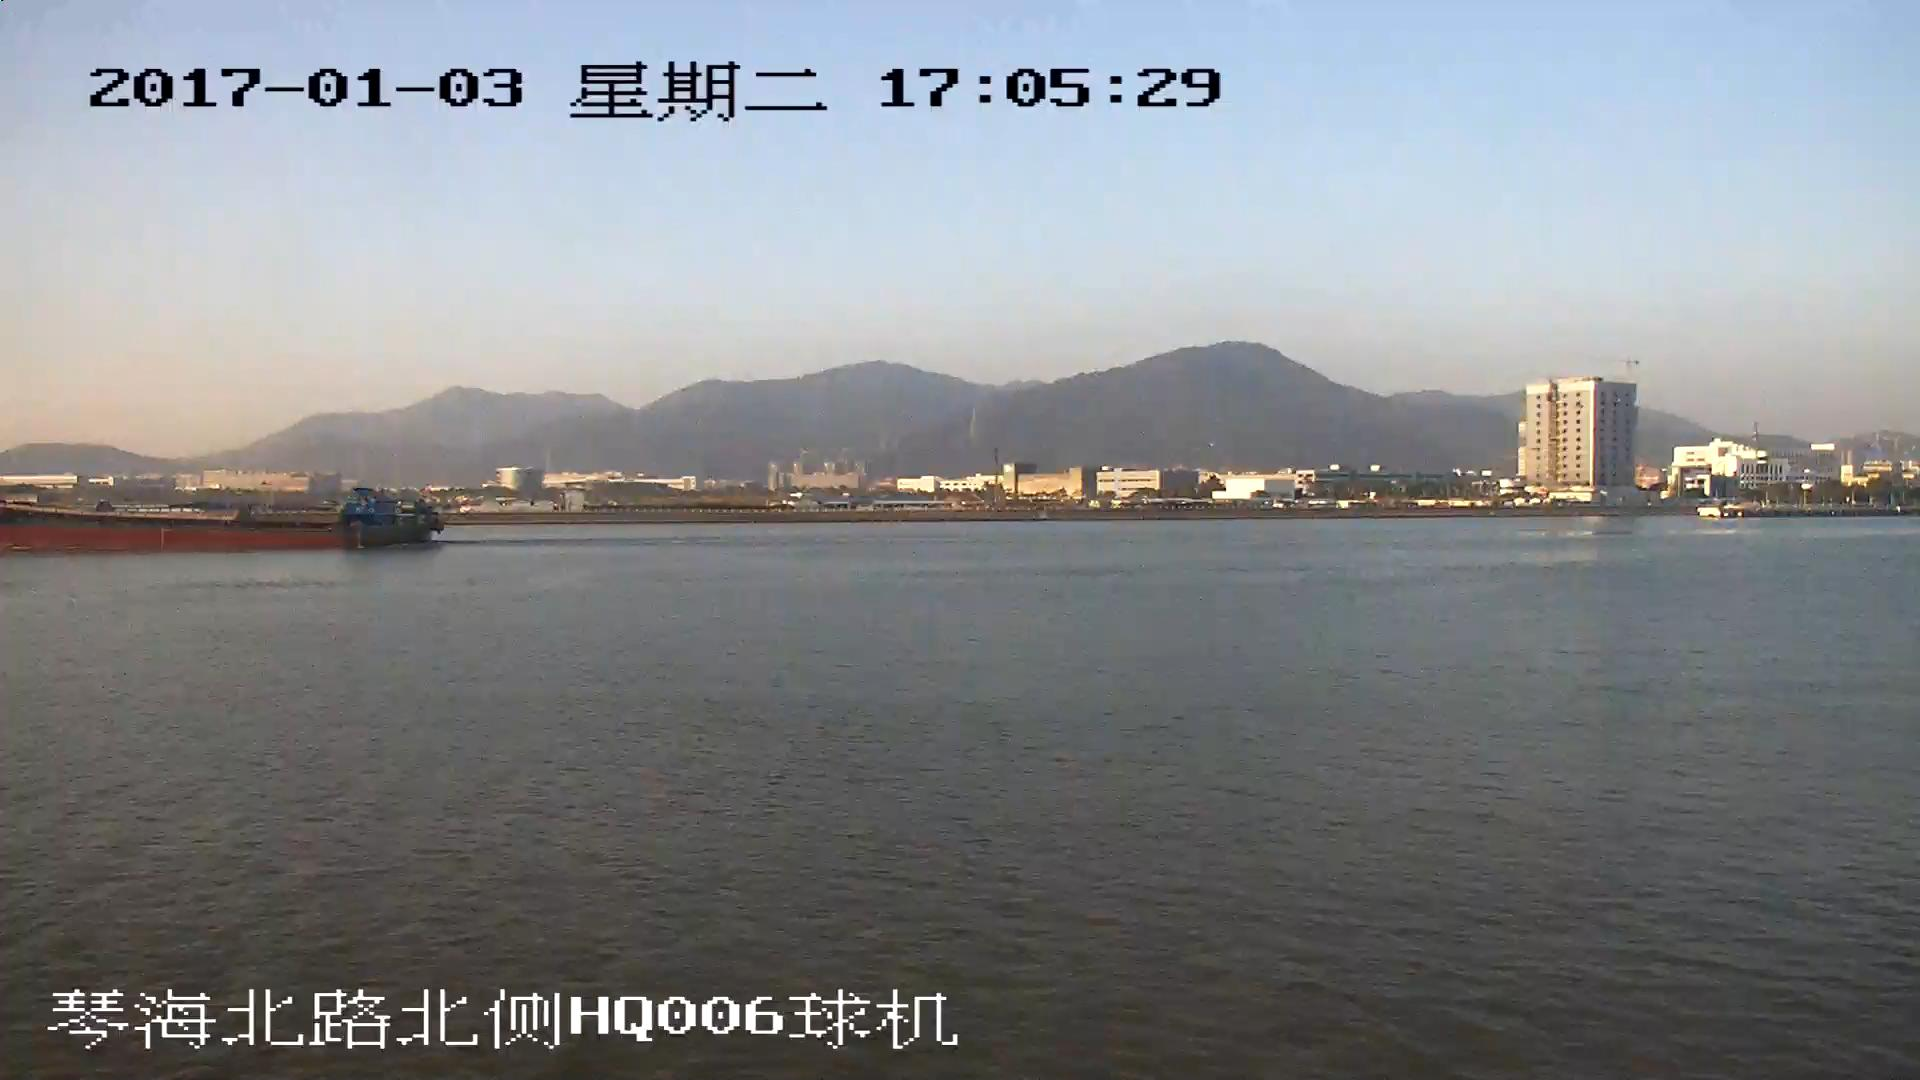bulk cargo carrier: (1, 491, 446, 545)
